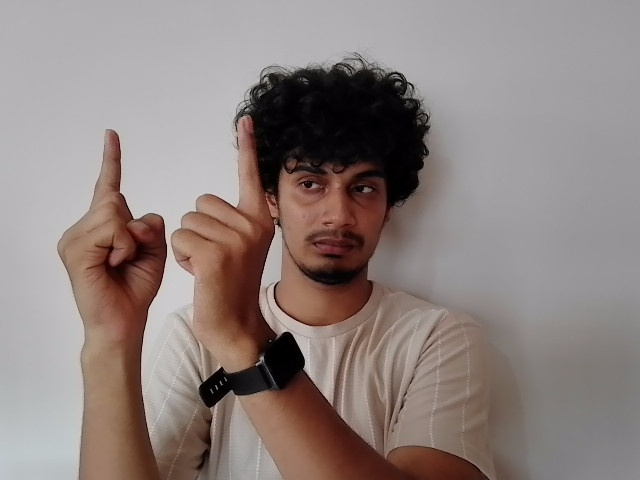play: (53, 114, 279, 333)
